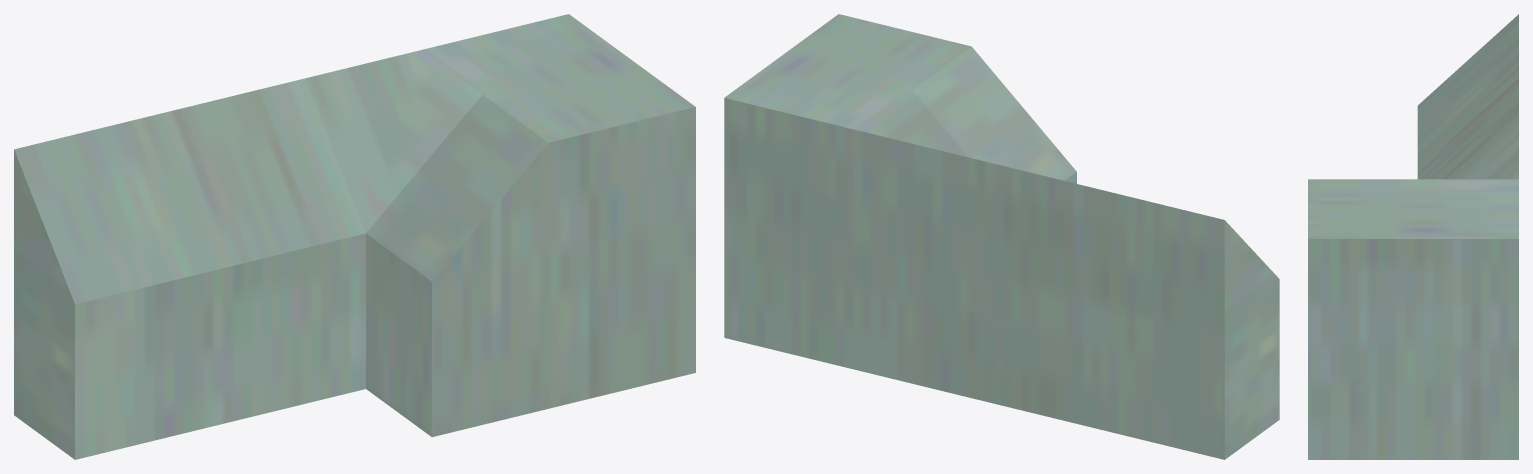
Rendered from console corner.glb.
The picture shows the model from 3 angles, left to right: view 1: azimuth 30°, elevation 25°; view 2: azimuth 150°, elevation 25°; view 3: azimuth 270°, elevation 25°; orthographic projection. The views are drawn at different scales.
Visible parts, largest first — view 1: Console (corner); view 2: Console (corner); view 3: Console (corner).
Part boxes in pixels (left/top/right/bottom): Console (corner): left=14, top=14, right=695, bottom=459; Console (corner): left=724, top=14, right=1279, bottom=459; Console (corner): left=1308, top=14, right=1518, bottom=459.
Bounding box in the file's own units: 3.82 × 1.75 × 1.51.
1 material, 1 textured.
